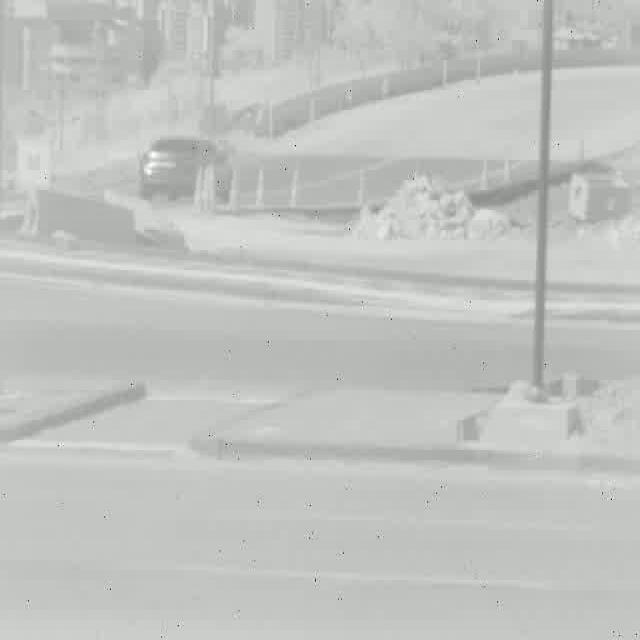Car: (142, 141, 232, 209)
